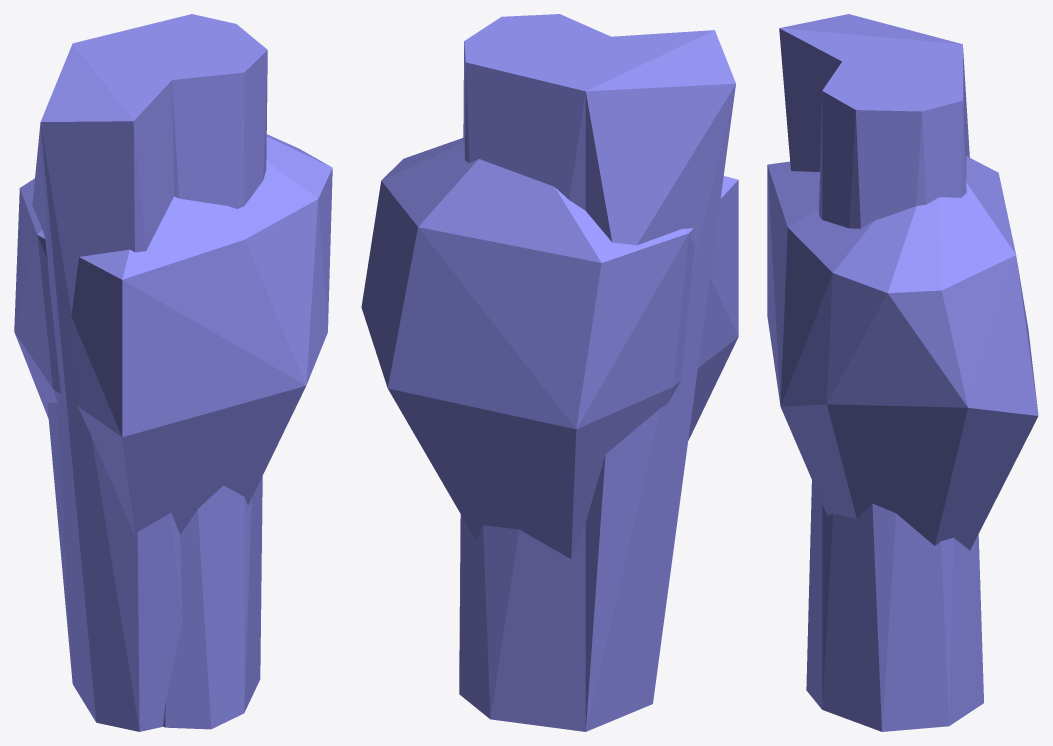
Rendered from Cliff_Spire_03_Collider_01.FBX.
3 views of the same model, side by side, from view 1: azimuth 30°, elevation 25°; view 2: azimuth 150°, elevation 25°; view 3: azimuth 270°, elevation 25° (orthographic). The views are drawn at different scales.
Visible parts, largest first — view 1: COLLIDER3, COLLIDER2, COLLIDER1; view 2: COLLIDER3, COLLIDER2, COLLIDER1; view 3: COLLIDER3, COLLIDER1, COLLIDER2.
Boxes of the visible parts, x1,y1,x2,y2 form: COLLIDER3: [14, 134, 332, 536]; COLLIDER2: [32, 43, 181, 731]; COLLIDER1: [73, 14, 267, 729]; COLLIDER3: [361, 138, 738, 558]; COLLIDER2: [585, 30, 735, 731]; COLLIDER1: [459, 14, 610, 731]; COLLIDER3: [767, 156, 1038, 550]; COLLIDER1: [806, 44, 983, 731]; COLLIDER2: [779, 14, 969, 171].
Bounding box in the file's own units: 294 × 575 × 228.
